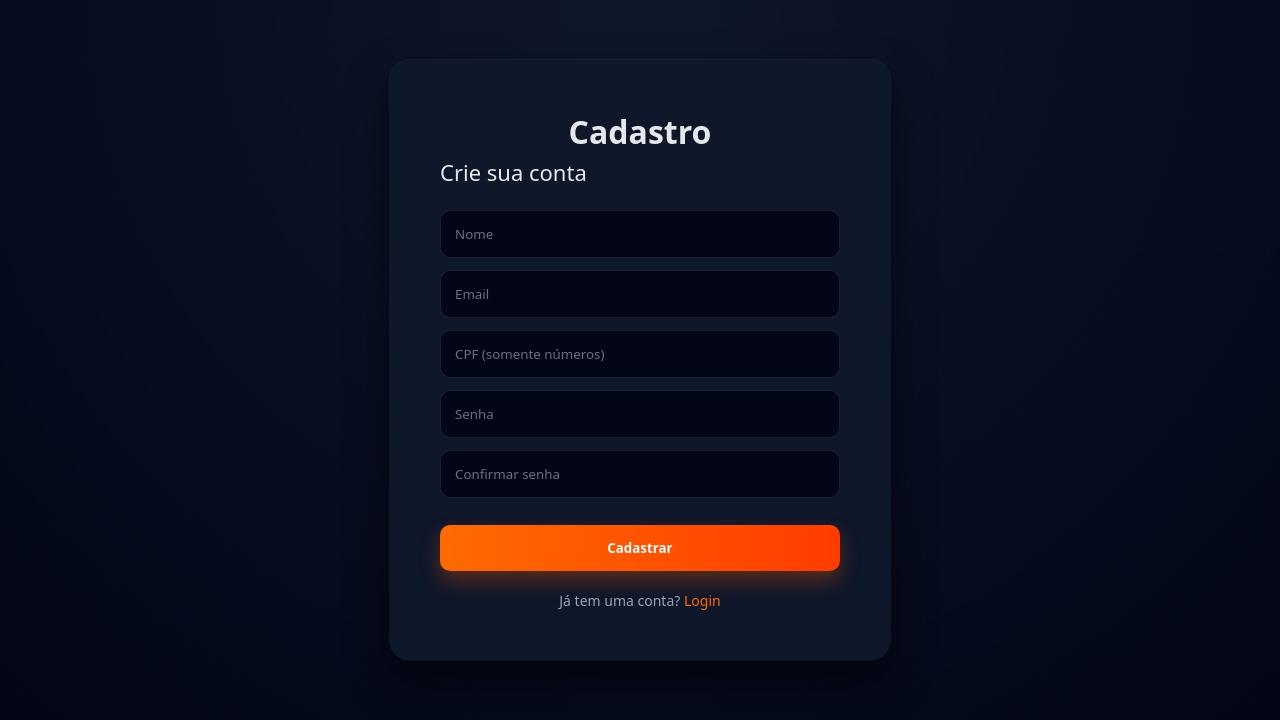
Test case: Cadastro › deve mostrar erro para senha curta
The width and height of the screenshot is (1280, 720).
Type "Gaby" into the field with placeholder "Nome" at (640, 234), box [440,210,840,258]
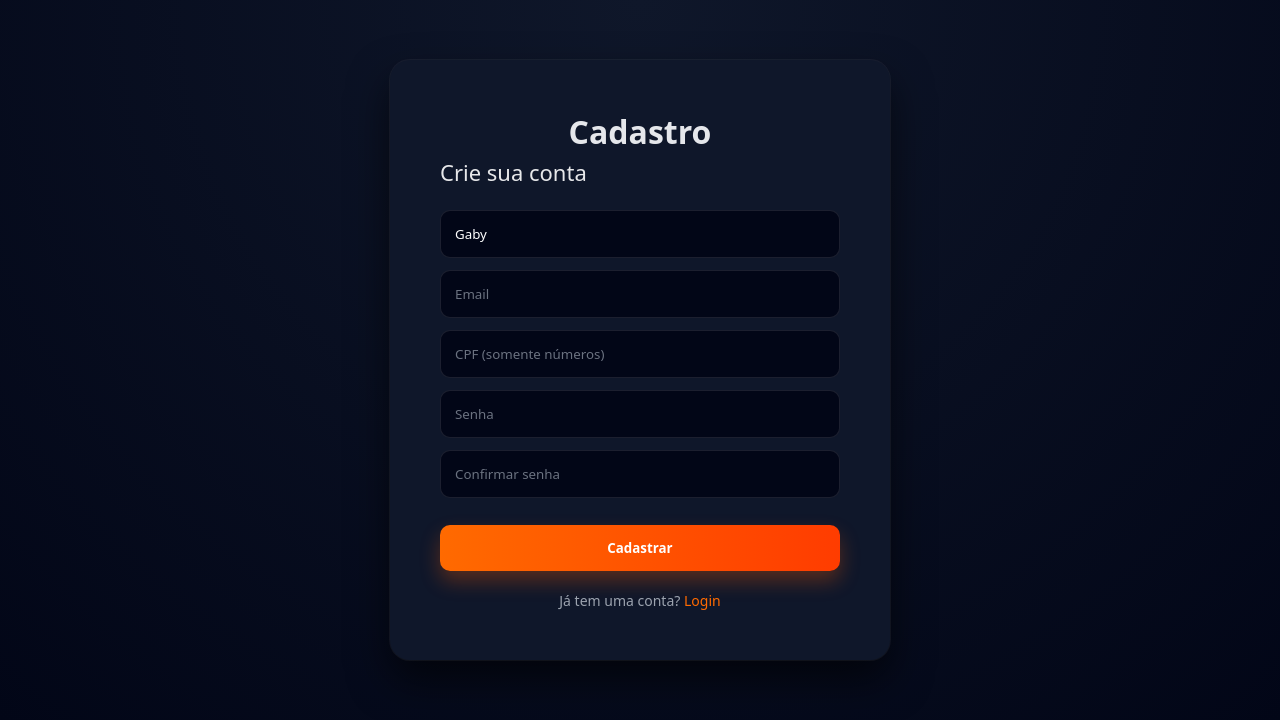
Type "gaby@email.com" into the field with placeholder "Email" at (640, 294), box [440,270,840,318]
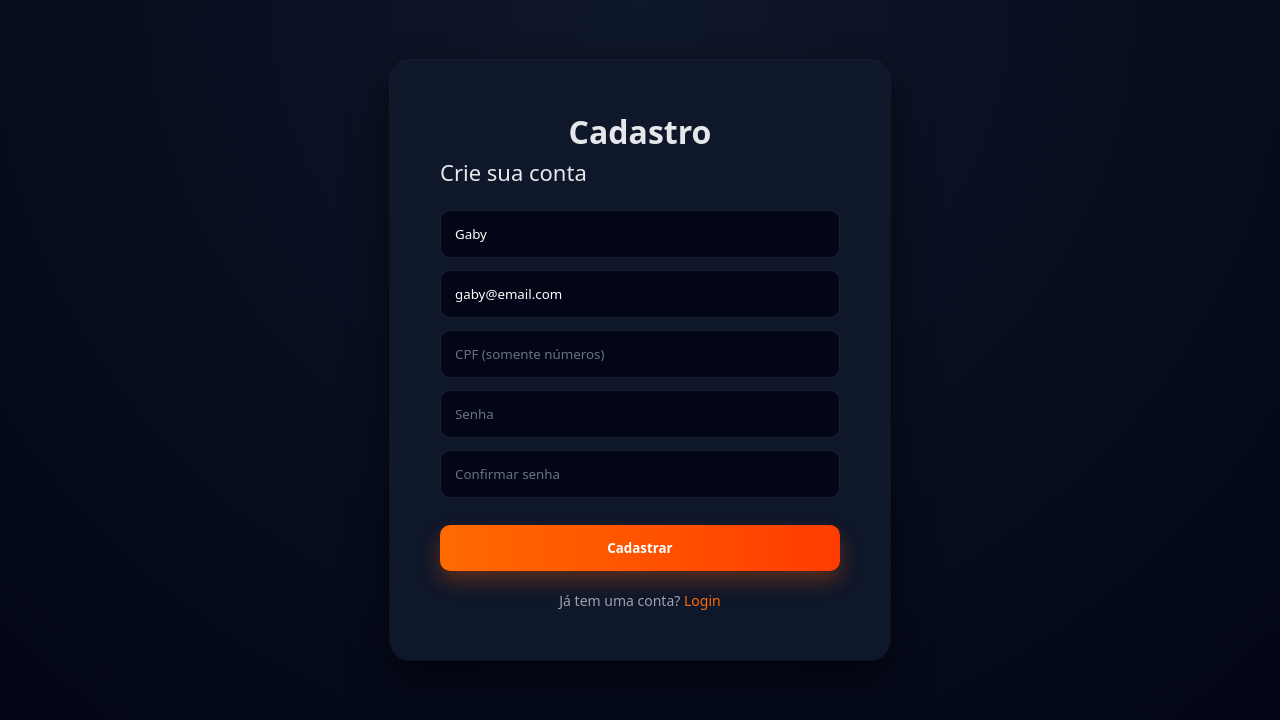
Type "52998224725" into the field with placeholder "CPF (somente números)" at (640, 354), box [440,330,840,378]
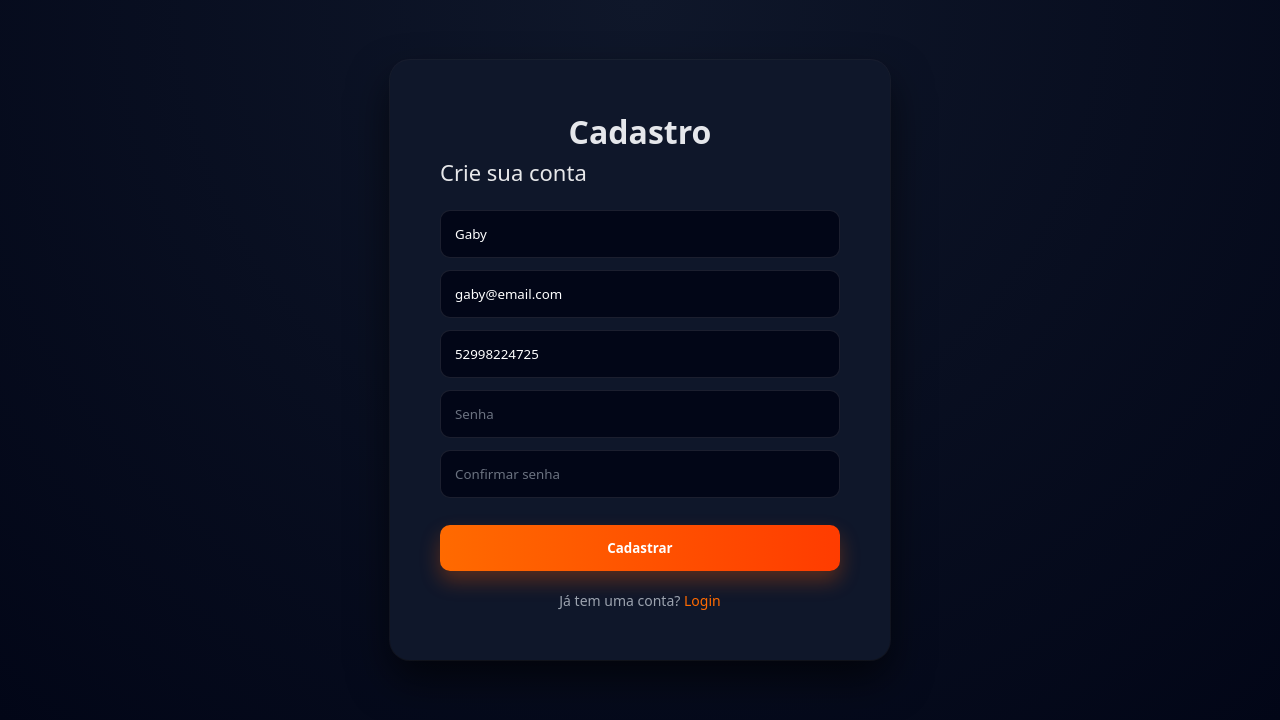
Type "123" into the password field with placeholder "Senha" at (640, 414), box [440,390,840,438]
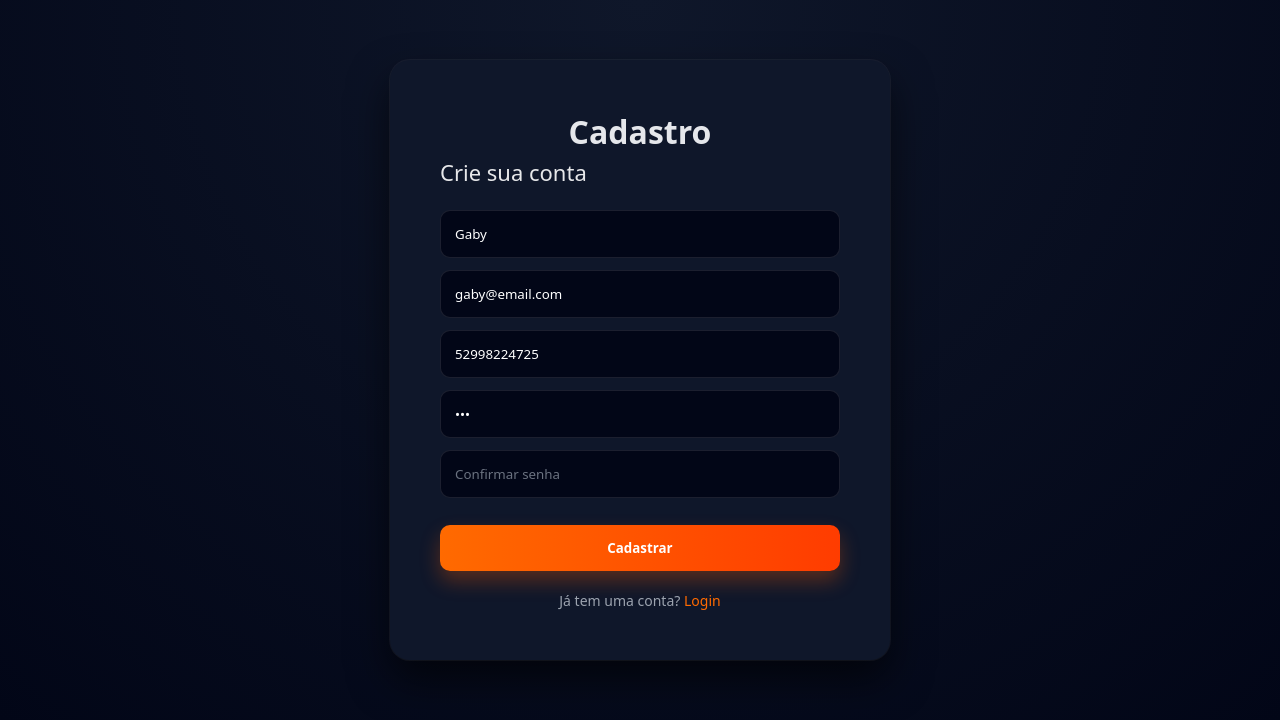
Type "123" into the password field with placeholder "Confirmar senha" at (640, 474), box [440,450,840,498]
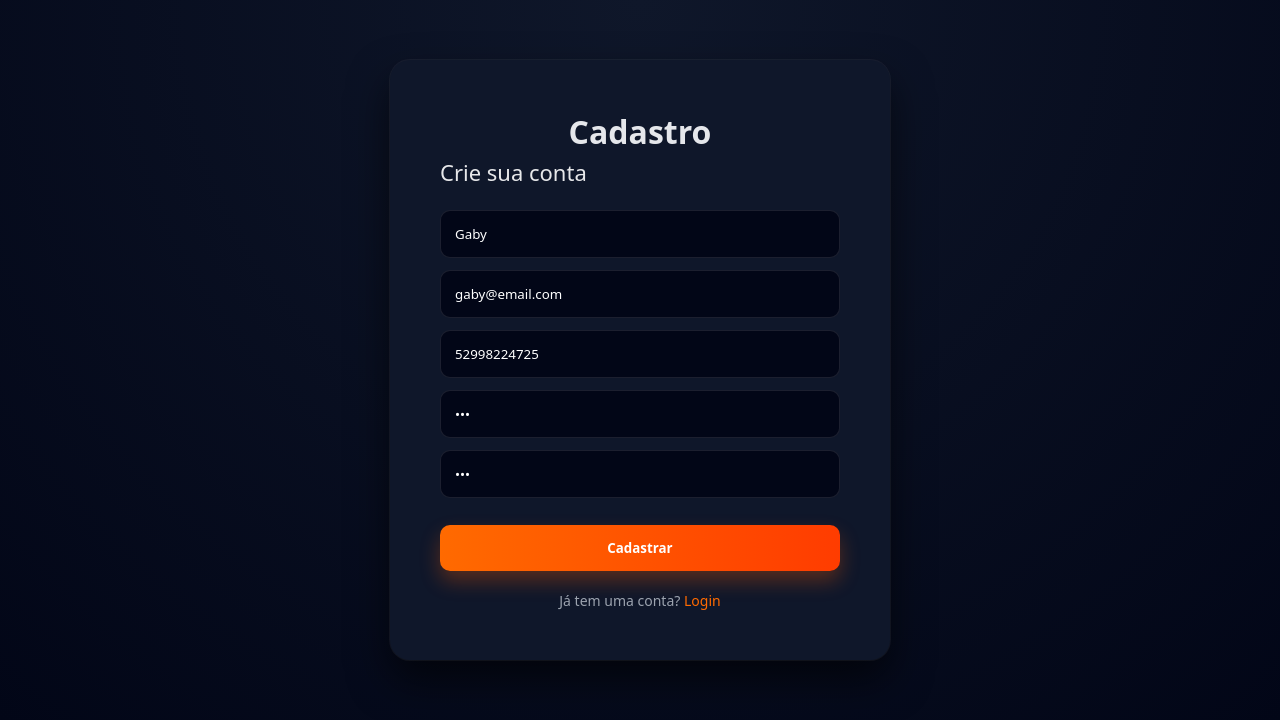
Click the button "Cadastrar" at (640, 548), box [440,525,840,571]
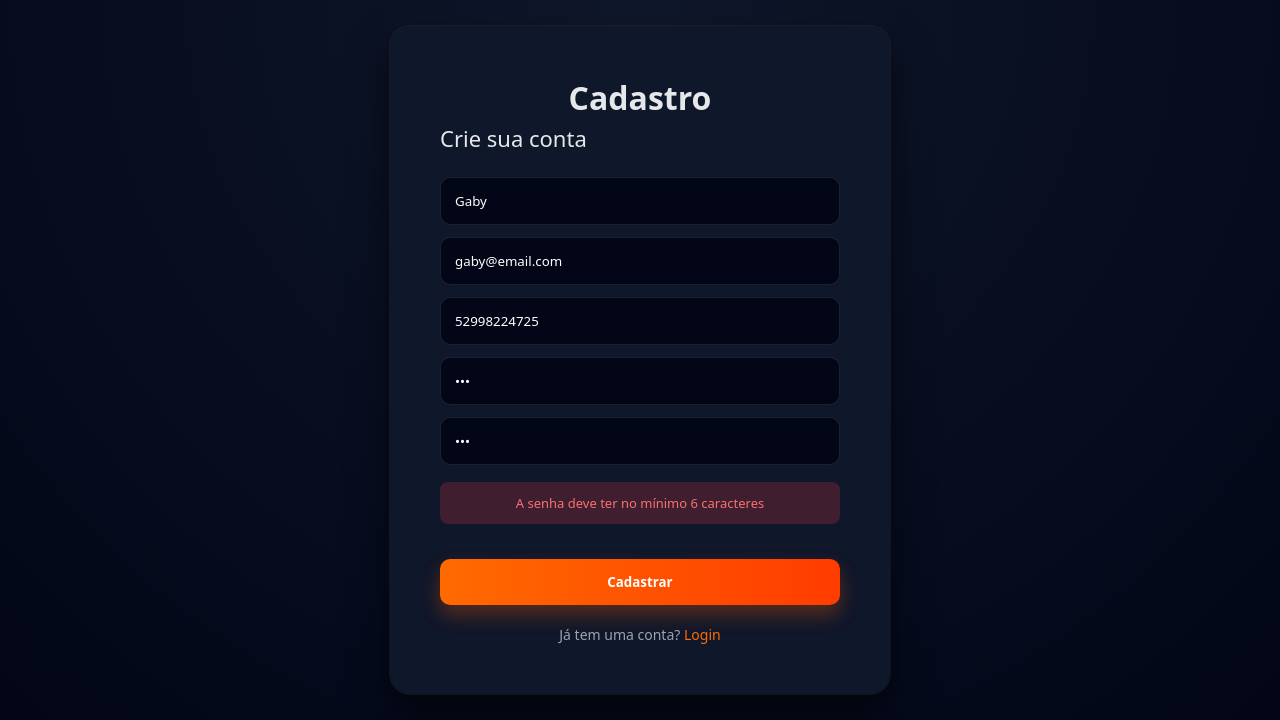
Now the text "A senha deve ter no mínimo 6 caracteres" is shown, box [440,482,840,524]
